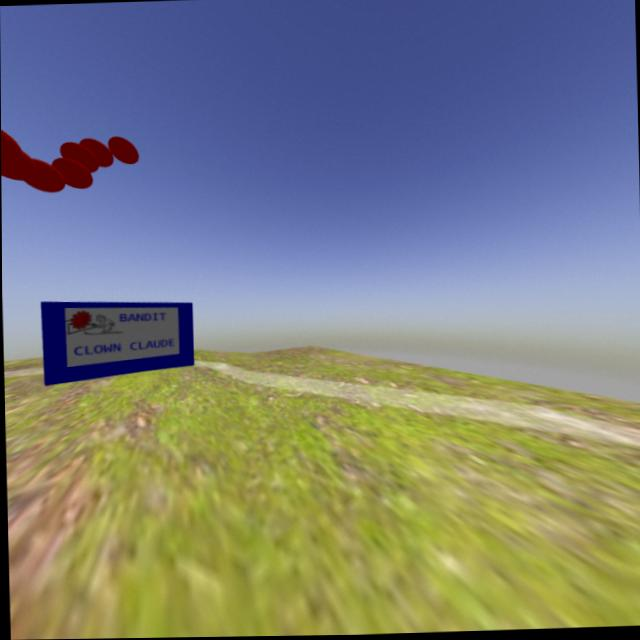clueboard: (36, 290, 200, 391)
